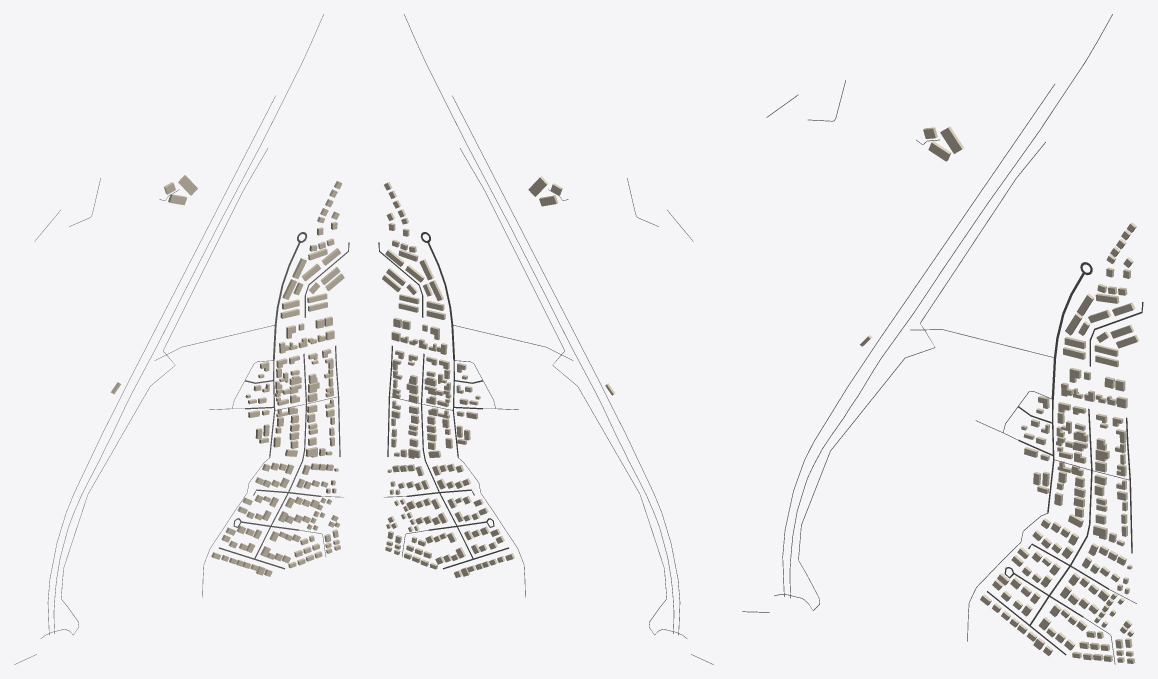
The model's file is historic-palestine-07_30_3494_3246.glb.
3 renders of one model, left to right at view 1: azimuth 30°, elevation 25°; view 2: azimuth 150°, elevation 25°; view 3: azimuth 330°, elevation 25°, orthographic. The views are drawn at different scales.
Visible parts, largest first — view 1: Road המסילה המזרחית, Road .012; view 2: Road המסילה המזרחית, Road .012; view 3: Road המסילה המזרחית, Road .012.
Part boxes in pixels (bbox=[...]): Road המסילה המזרחית: bbox=[53, 14, 323, 628]; Road .012: bbox=[40, 148, 267, 638]; Road המסילה המזרחית: bbox=[404, 14, 674, 628]; Road .012: bbox=[460, 148, 687, 638]; Road המסילה המזרחית: bbox=[789, 14, 1112, 591]; Road .012: bbox=[774, 142, 1045, 610].
Bounding box in the file's own units: 878 × 1439 × 8.7.
